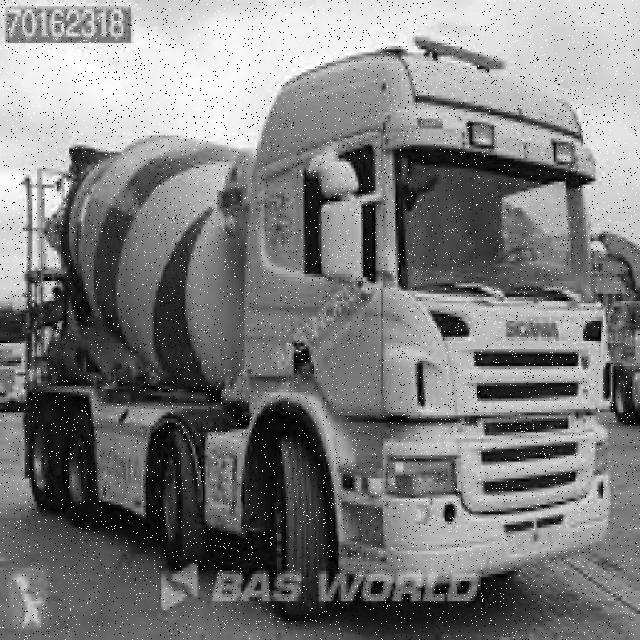Concrete Mixer: (19, 36, 616, 621)
